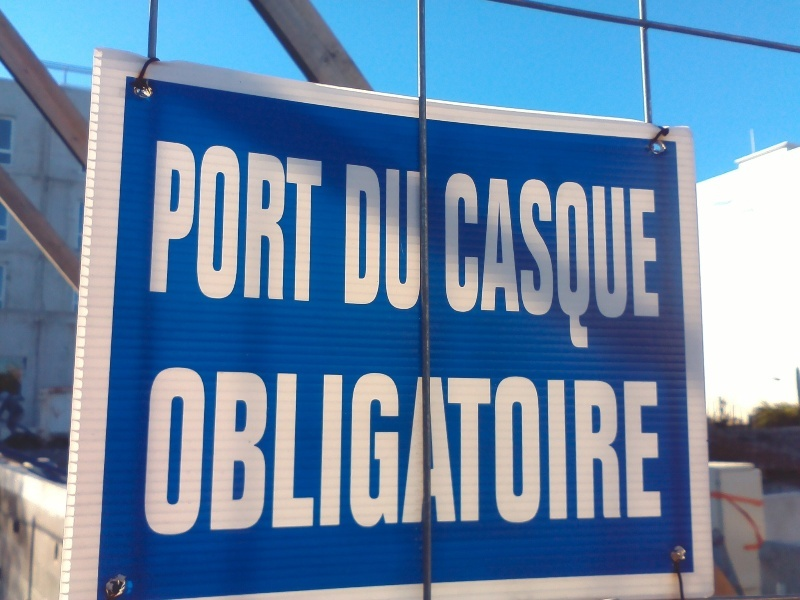text: (449, 172, 464, 351), (465, 172, 480, 351), (481, 172, 496, 351), (497, 172, 512, 351), (513, 172, 528, 351), (529, 172, 544, 351), (545, 172, 560, 351), (561, 172, 576, 351), (577, 172, 592, 351), (593, 172, 608, 351), (609, 172, 624, 351), (625, 172, 640, 351), (641, 172, 656, 351), (161, 365, 176, 538), (177, 365, 192, 538), (193, 365, 208, 538), (209, 365, 224, 538), (225, 365, 240, 538), (241, 365, 256, 538), (257, 365, 272, 538), (273, 365, 288, 538), (289, 365, 304, 538), (305, 365, 320, 538), (321, 365, 336, 538), (337, 365, 352, 538), (353, 365, 368, 538), (369, 365, 384, 538), (385, 365, 400, 538), (401, 365, 416, 538), (417, 365, 432, 538), (433, 365, 448, 538), (449, 365, 464, 538), (465, 365, 480, 538), (481, 365, 496, 538), (497, 365, 512, 538), (513, 365, 528, 538), (529, 365, 544, 538), (545, 365, 560, 538), (561, 365, 576, 538), (577, 365, 592, 538), (593, 365, 608, 538), (609, 365, 624, 538), (625, 365, 640, 538), (641, 365, 656, 538), (161, 138, 176, 306), (177, 138, 192, 306), (193, 138, 208, 306), (209, 138, 224, 306), (225, 138, 240, 306), (241, 138, 256, 306), (257, 138, 272, 306), (273, 138, 288, 306), (289, 138, 304, 306), (305, 138, 320, 306), (353, 163, 368, 312), (369, 163, 384, 312), (385, 163, 400, 312), (401, 163, 416, 312), (149, 365, 160, 538), (657, 172, 663, 351), (345, 163, 352, 312), (657, 365, 663, 538), (417, 163, 423, 312), (444, 172, 448, 351), (157, 138, 160, 306), (321, 138, 324, 306)
